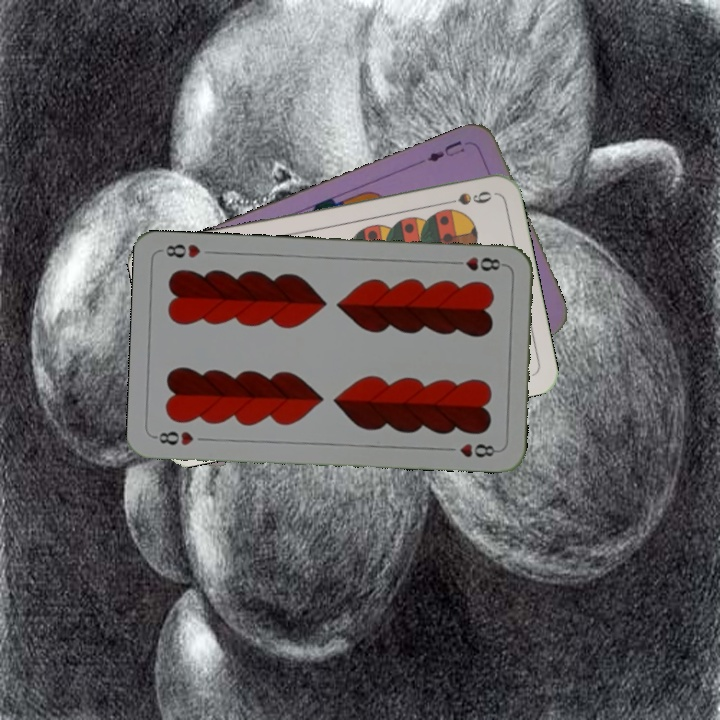EU: (422, 136, 468, 165)
H8: (448, 253, 507, 274), (151, 427, 196, 448)
S9: (436, 186, 495, 208)
